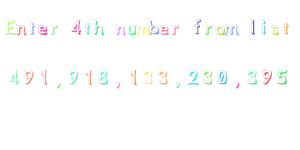,: (172, 80, 183, 91), (232, 79, 242, 91), (54, 80, 63, 90), (114, 80, 122, 90)
0: (214, 68, 230, 87)
1: (128, 67, 139, 86), (39, 68, 50, 86), (84, 69, 94, 86)
2: (186, 67, 200, 87)
3: (244, 67, 259, 87), (201, 67, 214, 87), (141, 68, 154, 87), (156, 68, 169, 86)
4: (70, 17, 83, 36), (8, 68, 20, 85)
5: (276, 68, 288, 87)
8: (96, 69, 110, 87)
9: (259, 67, 273, 87), (22, 68, 34, 86), (68, 68, 79, 86)
E: (4, 18, 17, 36)
b: (148, 17, 160, 36)
e: (158, 23, 169, 36), (37, 24, 48, 36)
f: (192, 16, 202, 36)
h: (92, 17, 104, 36)
i: (260, 19, 267, 36)
l: (247, 16, 257, 35)
m: (135, 22, 151, 38), (224, 24, 239, 36)
n: (15, 23, 27, 37), (114, 22, 126, 36)
o: (214, 24, 226, 36)
r: (170, 23, 180, 36), (203, 23, 213, 36), (49, 25, 58, 36)
s: (270, 23, 280, 36)
t: (28, 19, 37, 35), (83, 21, 91, 36), (282, 20, 290, 35)
u: (126, 23, 137, 36)
